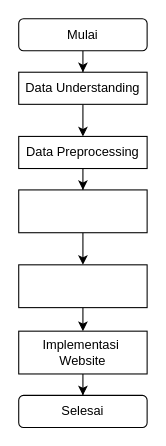
This 166x446 diagram has some shape labels left out. Each missing label, with the centre of its shape:
"Evaluasi Model" goes at (82,286).
"Pemodelan" goes at (82,211).
